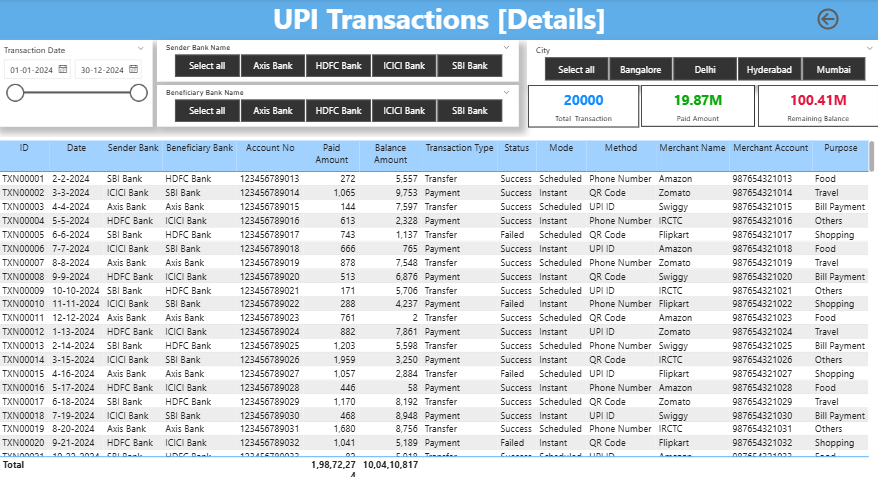

What the dashboard file says about the page in this screenshot:
{"tool":"powerbi","page":{"name":"Details","canvas":[1280,720],"ordinal":4},"visuals":[{"type":"slicer","fields":{"Values":["UPI_TRANSACTIONS.TransactionDate"]},"box":[0,58.7,227.4,124.7],"z":0},{"type":"textbox","title":"UPI Transactions [Details]","box":[0,0,1280.3,58.7],"z":1000},{"type":"slicer","fields":{"Values":["UPI_TRANSACTIONS.BankNameSent"]},"box":[233.6,58.7,520.9,59.9],"z":2000},{"type":"slicer","fields":{"Values":["UPI_TRANSACTIONS.BankNameReceived"]},"box":[233.6,123.5,520.9,59.9],"z":3000},{"type":"slicer","fields":{"Values":["UPI_TRANSACTIONS.City"]},"box":[766.7,58.7,511.1,64.8],"z":4000},{"type":"card","fields":{"Values":["Count(UPI_TRANSACTIONS.TransactionID)"]},"box":[767.9,123.5,160.2,61.1],"z":5000},{"type":"card","fields":{"Values":["Sum(UPI_TRANSACTIONS.Amount)"]},"box":[930.6,123.5,163.9,59.9],"z":6000},{"type":"actionButton","box":[1180,8.6,100.3,40.4],"z":7000},{"type":"card","fields":{"Values":["Sum(UPI_TRANSACTIONS.RemainingBalance)"]},"box":[1098.1,123.5,173.6,59.9],"z":8000},{"type":"tableEx","fields":{"Values":["UPI_TRANSACTIONS.TransactionID","UPI_TRANSACTIONS.TransactionDate","UPI_TRANSACTIONS.BankNameSent","UPI_TRANSACTIONS.BankNameReceived","UPI_TRANSACTIONS.CustomerAccountNumber","Sum(UPI_TRANSACTIONS.Amount)","Sum(UPI_TRANSACTIONS.RemainingBalance)","UPI_TRANSACTIONS.TransactionType","UPI_TRANSACTIONS.Status","UPI_TRANSACTIONS.PaymentMode","UPI_TRANSACTIONS.PaymentMethod","UPI_TRANSACTIONS.MerchantName"]},"box":[0,199.3,1271.7,511.1],"z":9000}]}

Visuals, with their boxes on the page's 1280x720 design canvas (x1, y1, x2, y2). These are canvas units, not pixel positions in the 878x477 screenshot, which may show the page scaled, cropped or inside an application window:
slicer - UPI_TRANSACTIONS.TransactionDate: l=0, t=59, r=227, b=183
"UPI Transactions [Details]" textbox: l=0, t=0, r=1280, b=59
slicer - UPI_TRANSACTIONS.BankNameSent: l=234, t=59, r=754, b=119
slicer - UPI_TRANSACTIONS.BankNameReceived: l=234, t=124, r=754, b=183
slicer - UPI_TRANSACTIONS.City: l=767, t=59, r=1278, b=124
card - Count(UPI_TRANSACTIONS.TransactionID): l=768, t=124, r=928, b=185
card - Sum(UPI_TRANSACTIONS.Amount): l=931, t=124, r=1094, b=183
actionButton: l=1180, t=9, r=1280, b=49
card - Sum(UPI_TRANSACTIONS.RemainingBalance): l=1098, t=124, r=1272, b=183
tableEx - UPI_TRANSACTIONS.TransactionID x UPI_TRANSACTIONS.TransactionDate: l=0, t=199, r=1272, b=710
